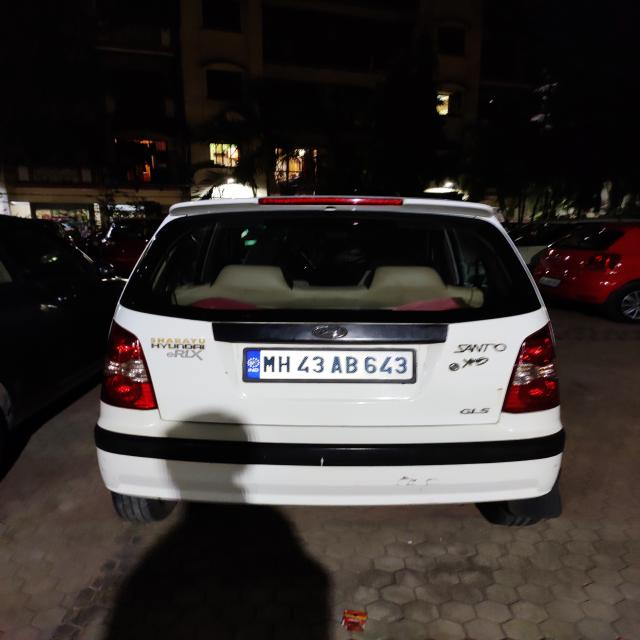Number-Plate: (246, 350, 413, 382)
